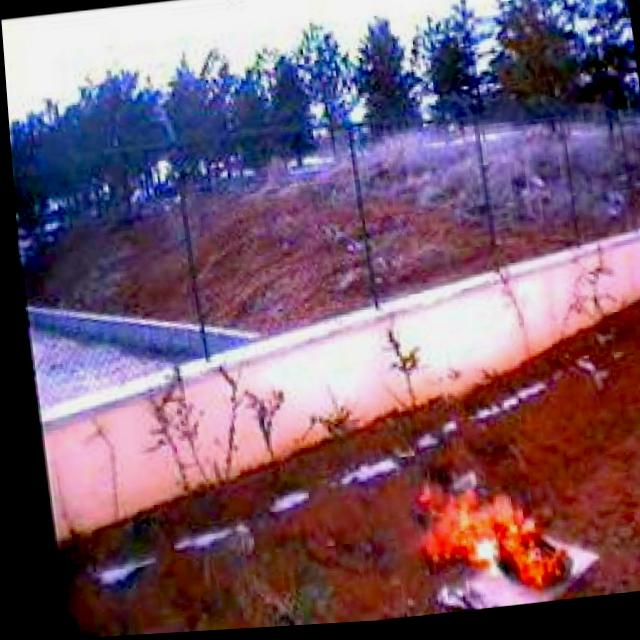Fire: (405, 475, 565, 606)
